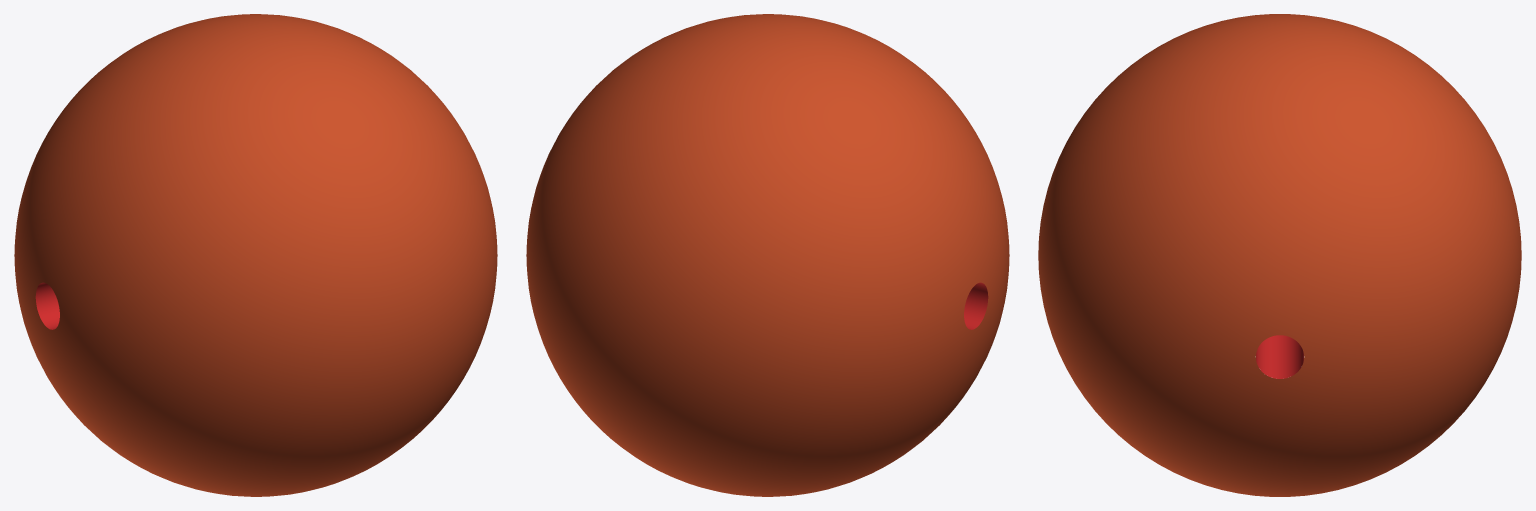
File: Bol oranje groot.glb
3 views of the same model, side by side, from view 1: azimuth 30°, elevation 25°; view 2: azimuth 150°, elevation 25°; view 3: azimuth 270°, elevation 25° (orthographic).
Size of the model in its own units: 0.0199 by 0.02 by 0.02.
